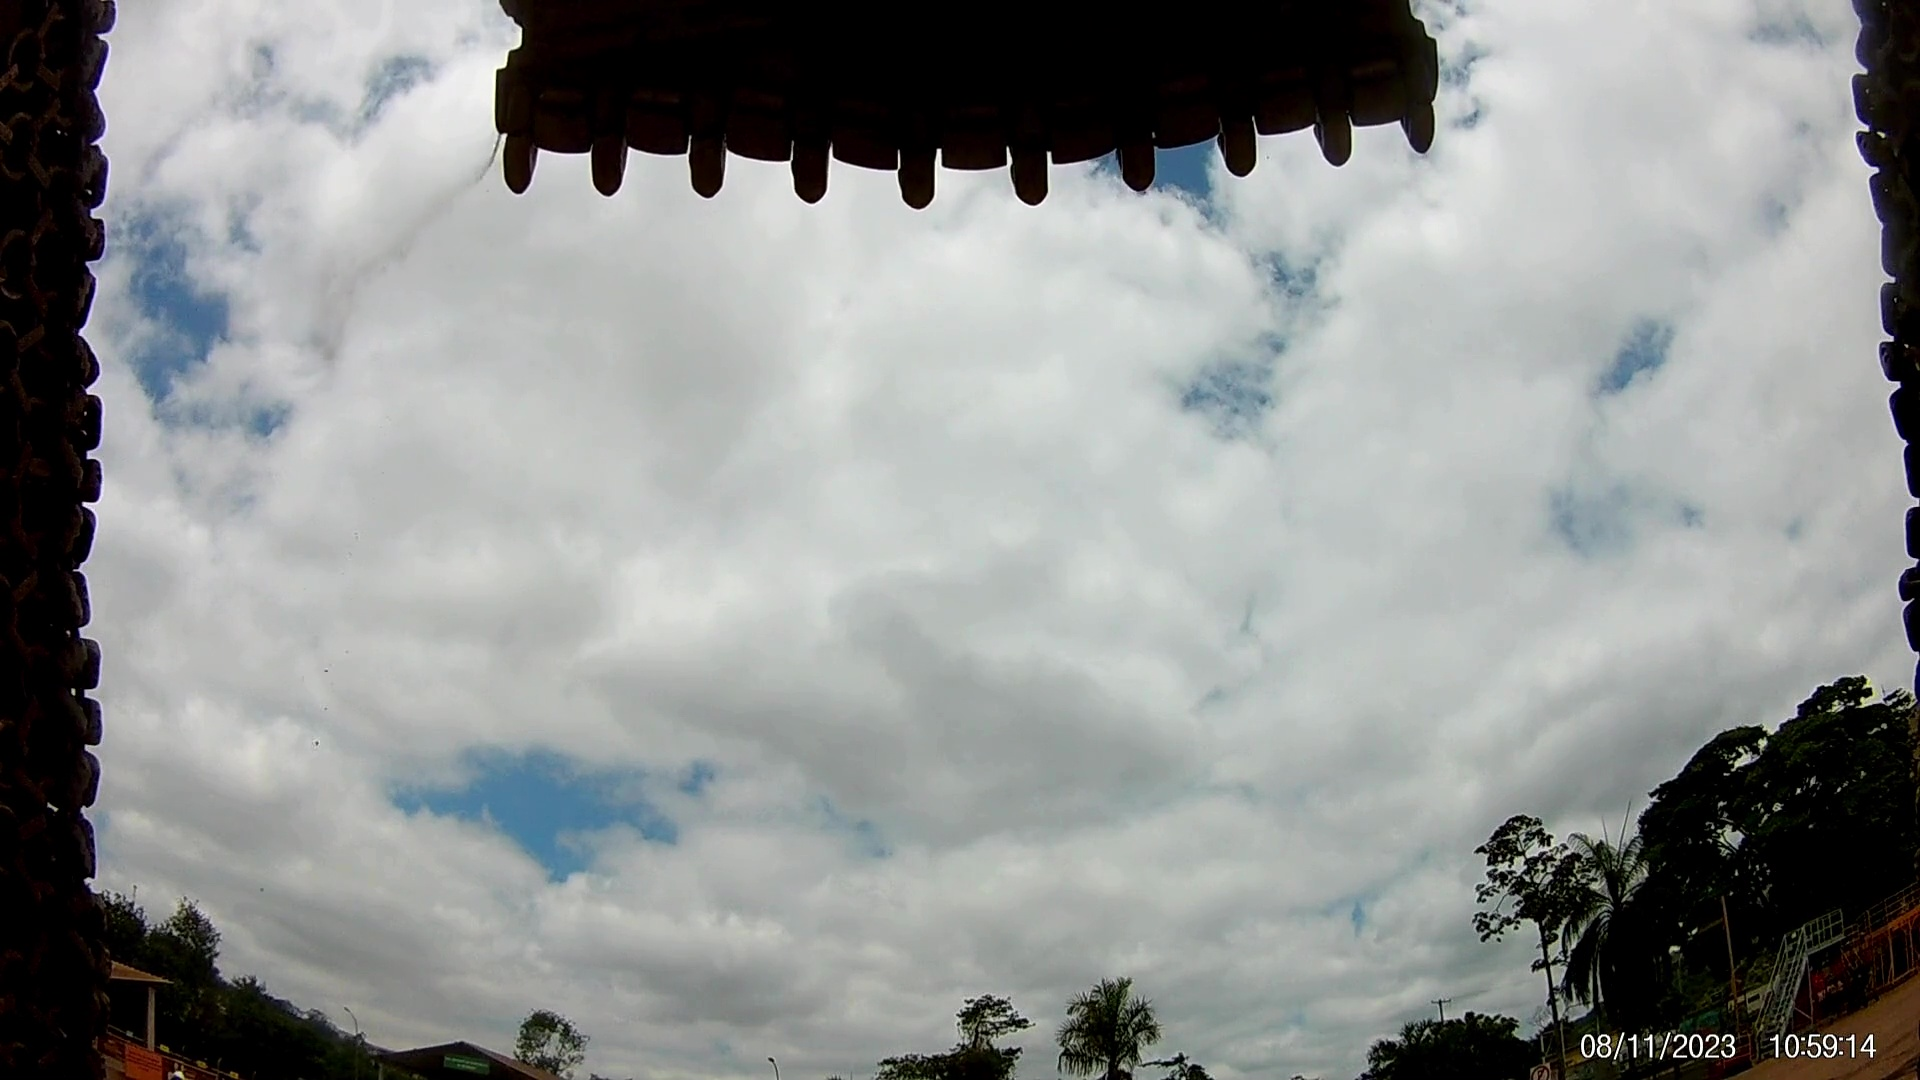FPS: (1080, 218, 1220, 287), (1098, 115, 1242, 171), (1047, 425, 1170, 479), (1036, 611, 1130, 674), (1044, 926, 1139, 984), (1048, 328, 1197, 365), (1030, 698, 1135, 748), (1039, 516, 1130, 568), (1039, 781, 1130, 825), (1033, 866, 1135, 905)
